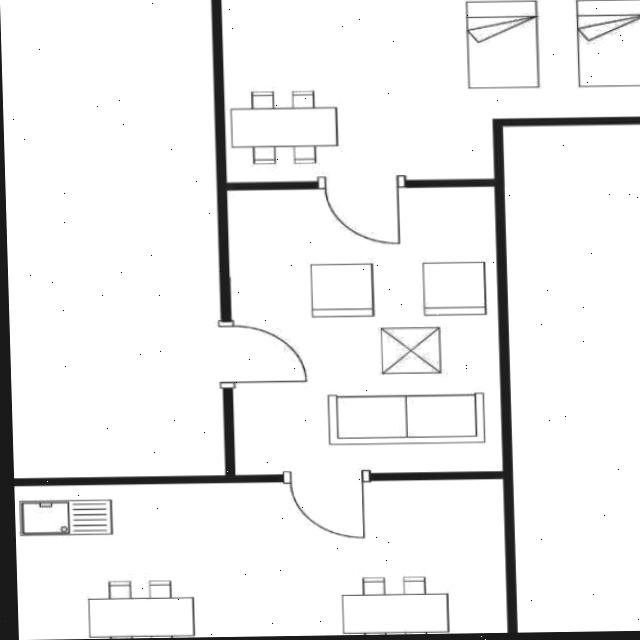room: (227, 182, 502, 479), (14, 479, 507, 640), (220, 0, 640, 183)
